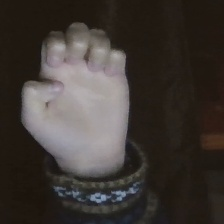E: (14, 16, 142, 163)
